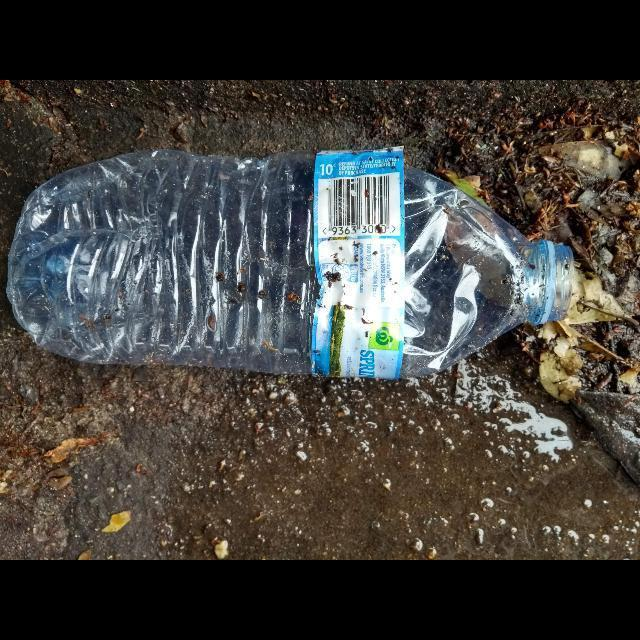Plastic: (6, 149, 574, 379)
